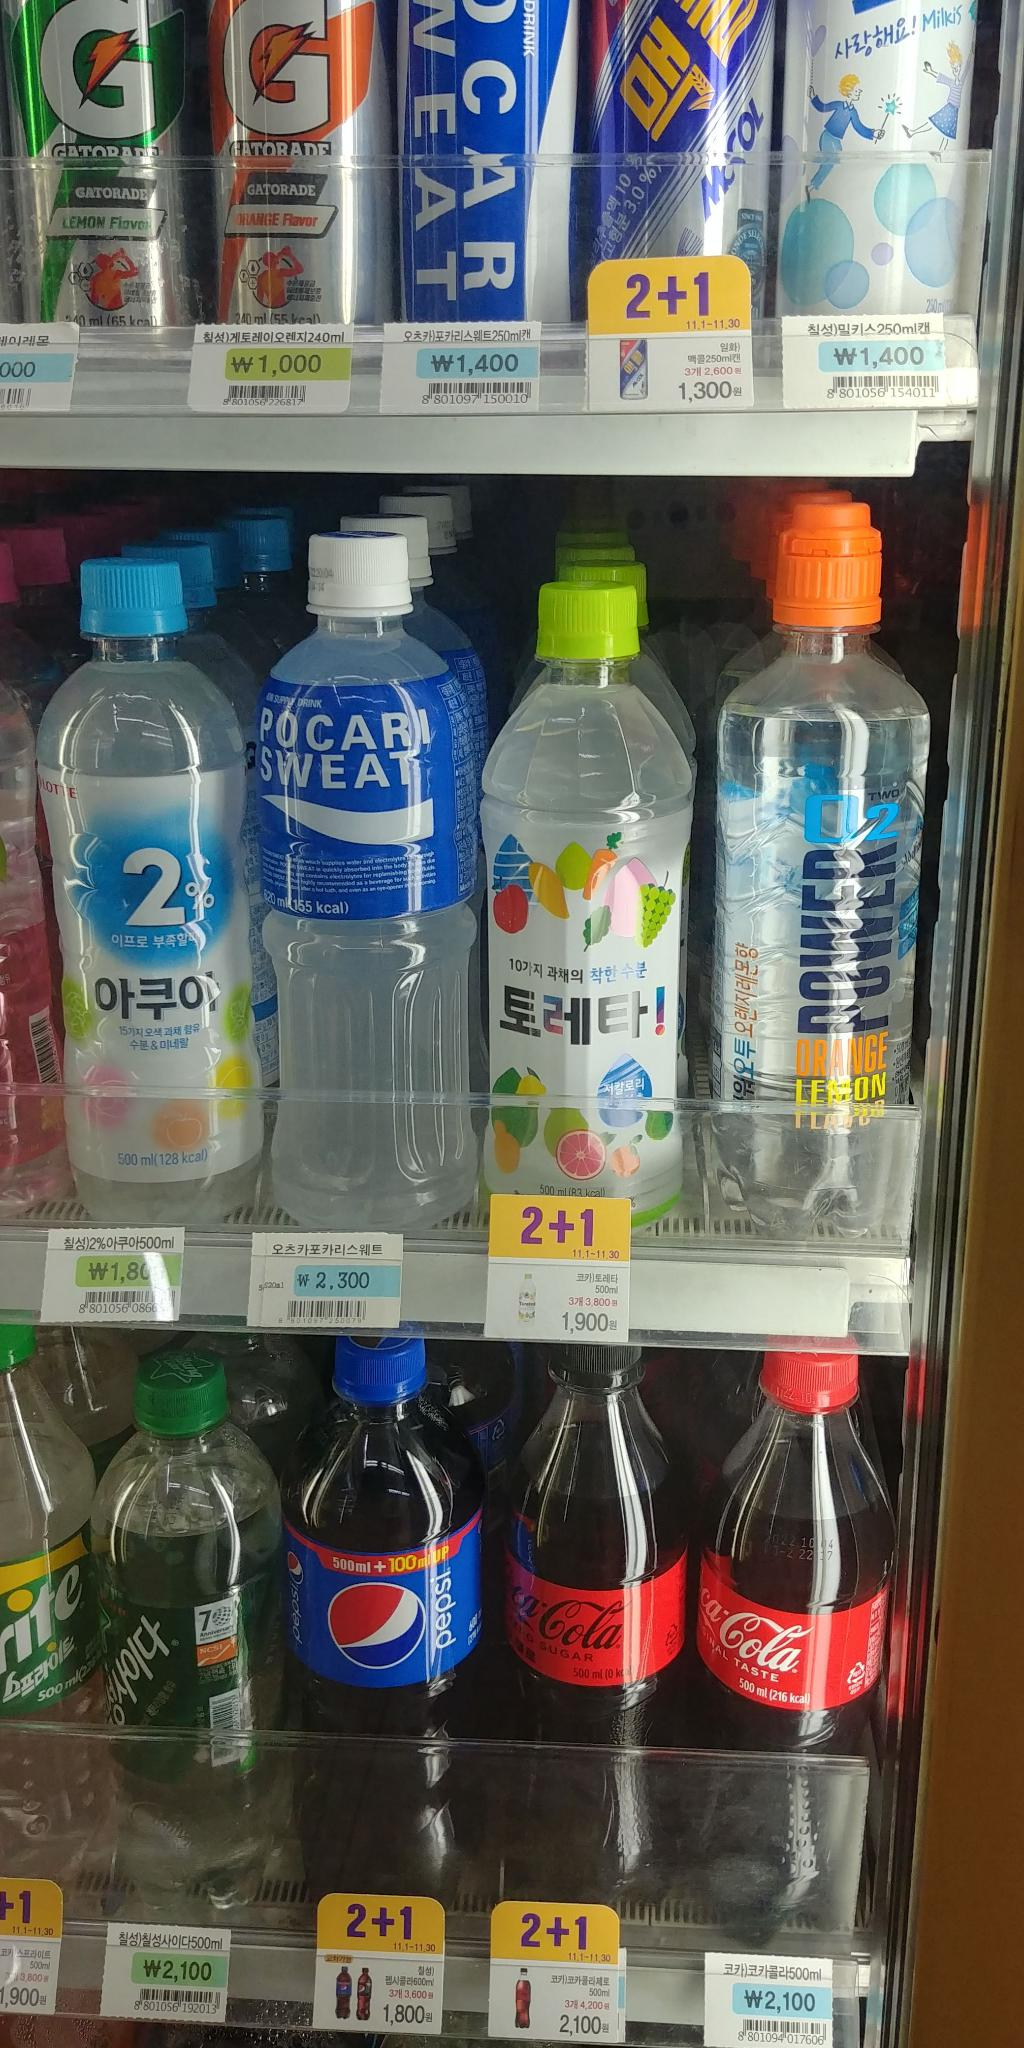pocarisweat: (256, 539, 490, 1245)
powerO2_orange: (670, 519, 944, 1245)
toreta: (462, 593, 703, 1237)
